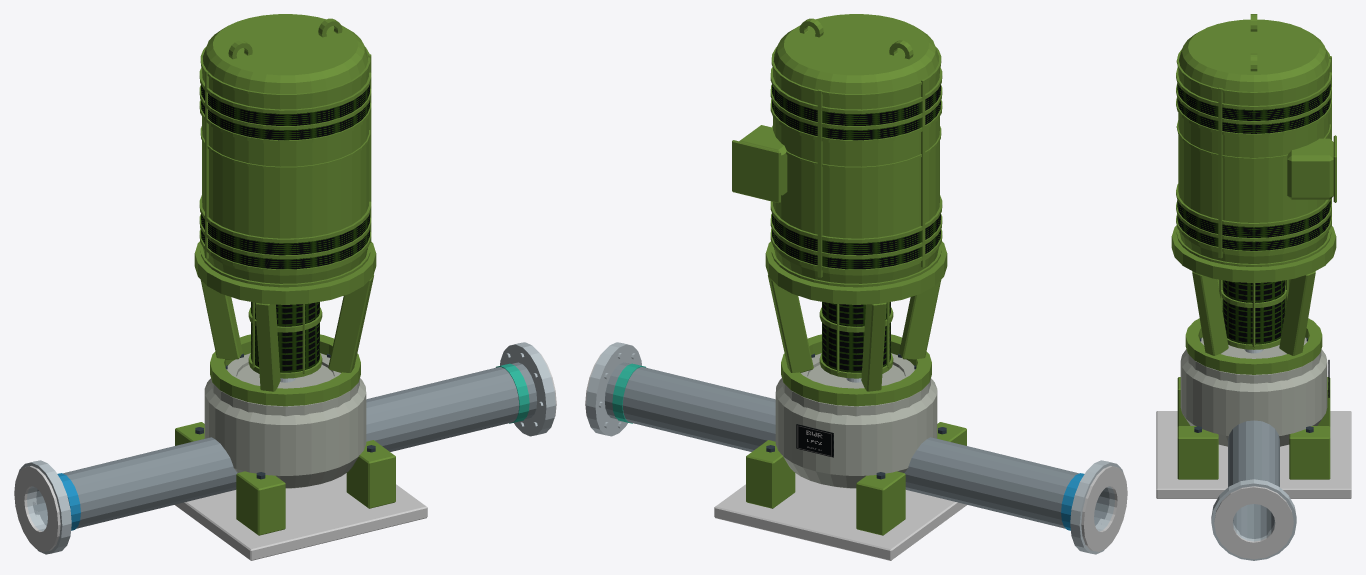
File: compact.obj
3 views of the same model, side by side, from view 1: azimuth 30°, elevation 25°; view 2: azimuth 150°, elevation 25°; view 3: azimuth 270°, elevation 25° (orthographic). The views are drawn at different scales.
Bounding box in the file's own units: 0.9 × 0.81 × 0.3375.
